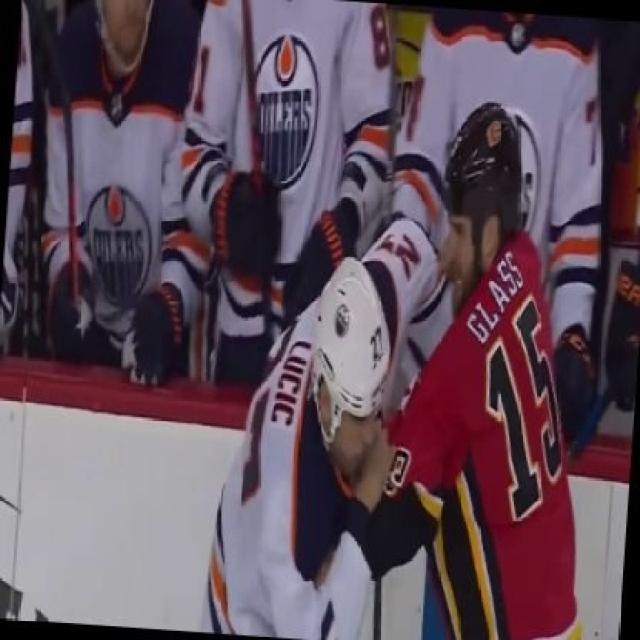fight: (214, 94, 591, 638)
